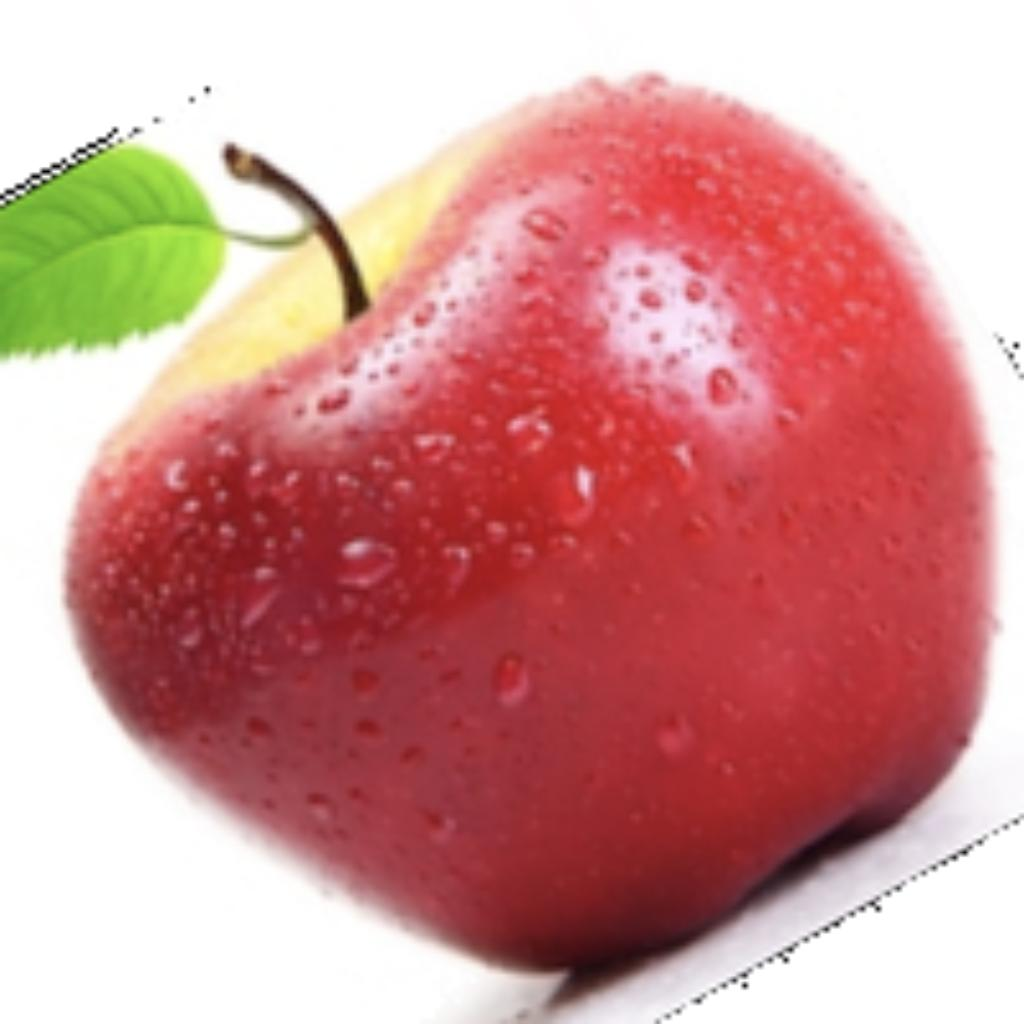apple: (0, 61, 1019, 1019)
